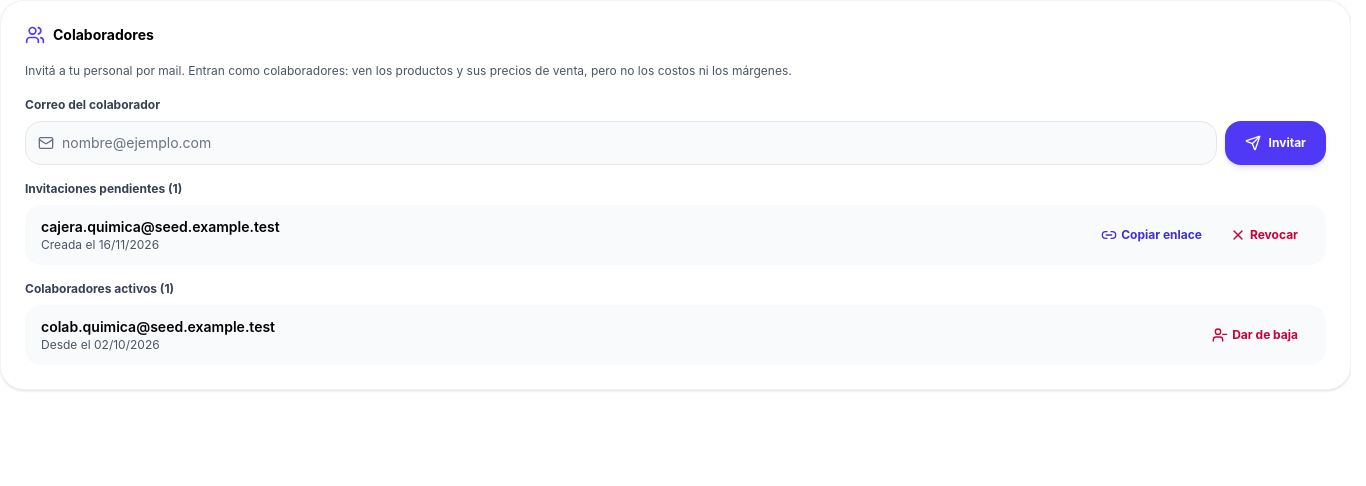
Test: CollaboratorsSection (Perfil, solo ADMIN) › si el mail no salió, avisa que la invitación quedó y que hay que copiar el enlace
The width and height of the screenshot is (1366, 486).
Expected: the text "colab.quimica@seed.example.test" is shown, [41,318,275,334]
Type "repartidor.quimica@seed.example.test" into the field labelled "Correo del colaborador". click: (633, 142)
box: [62,124,1204,160]
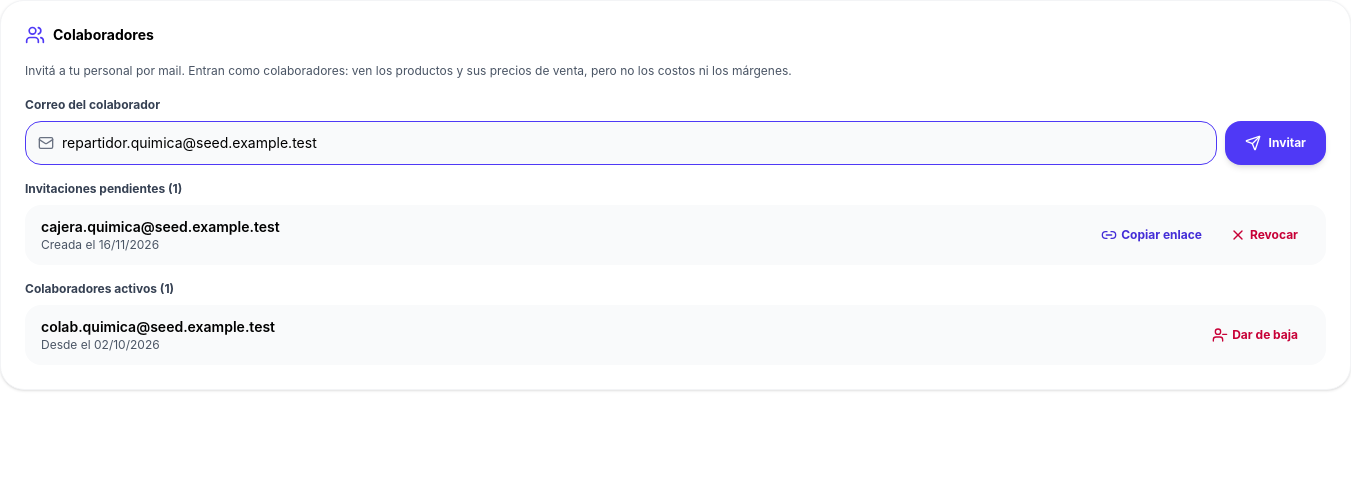
Click the button "Invitar". click: (1275, 142)
box: [1225,120,1326,164]
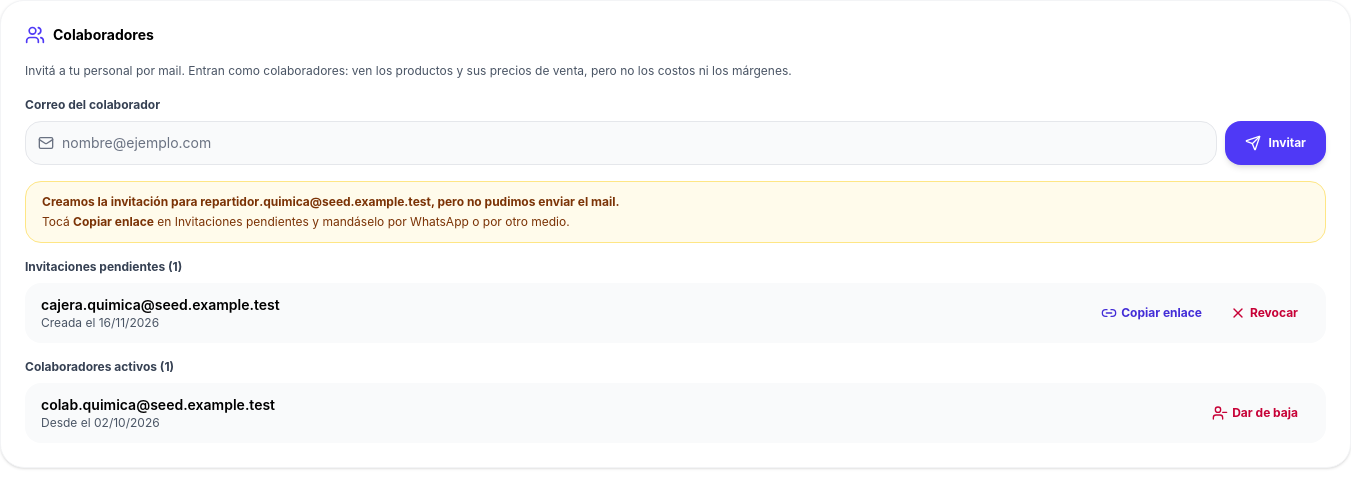
Now the message named "Aviso de invitación" shows "Creamos la invitación para repartidor.quimica@seed.example.test, pero no pudimos enviar el mail.", box [25,180,1326,242]
Now the message named "Aviso de invitación" shows "Copiar enlace", box [73,214,154,228]
